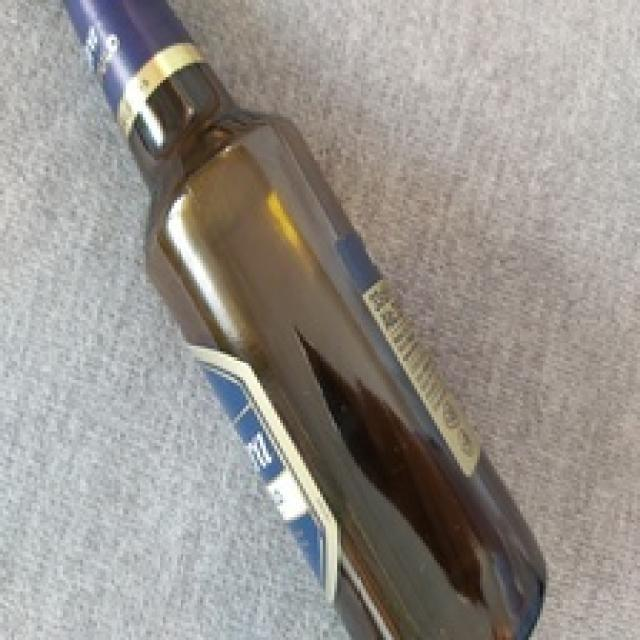Glass: (64, 0, 550, 640)
